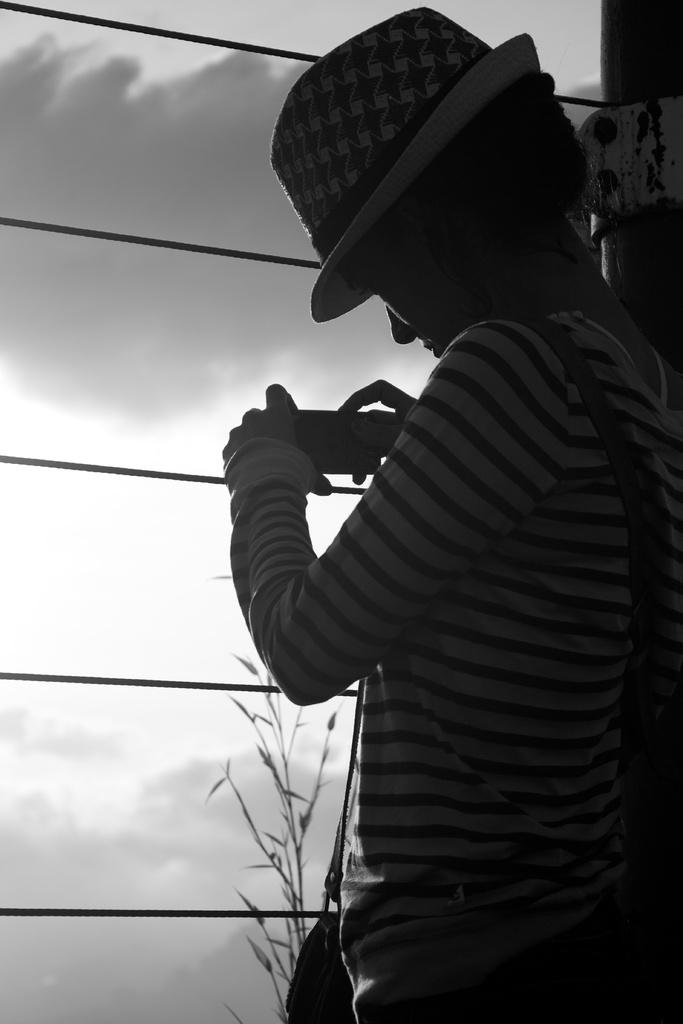Hat: (273, 8, 547, 322)
